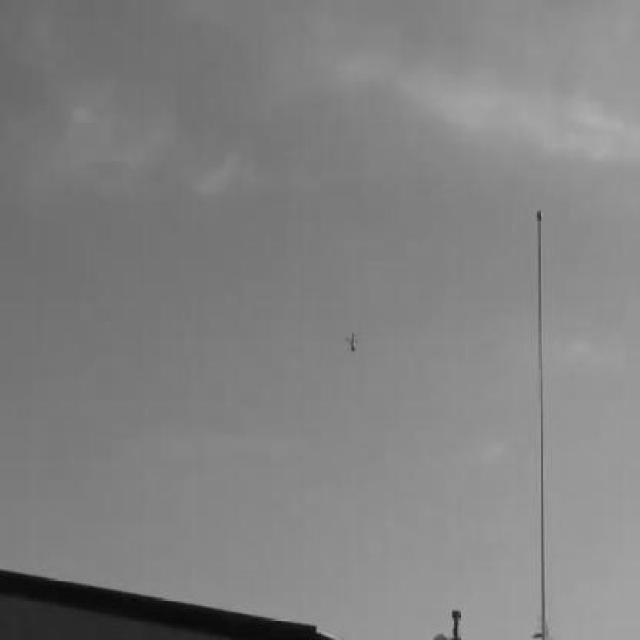helikopter: (348, 332, 360, 354)
